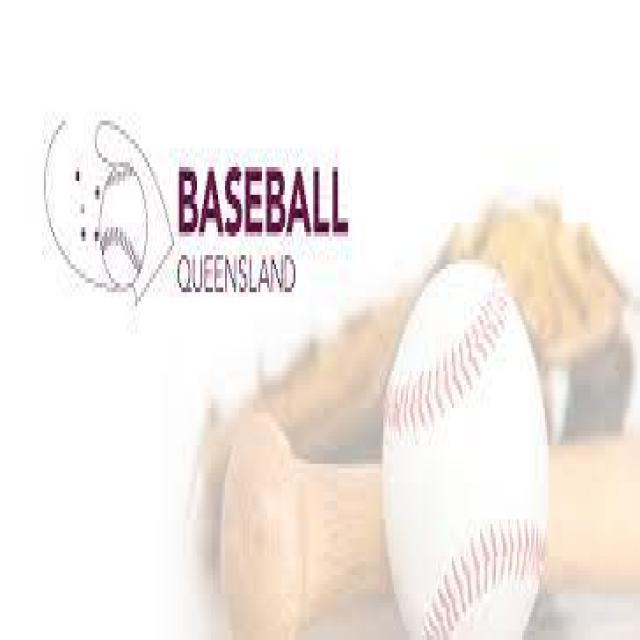ball: (379, 252, 555, 638), (98, 154, 149, 295)
